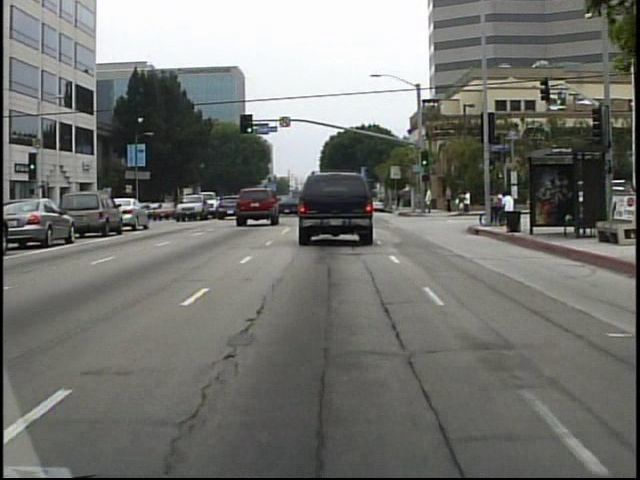person: (423, 184, 436, 218), (444, 181, 456, 216), (392, 186, 404, 211)
